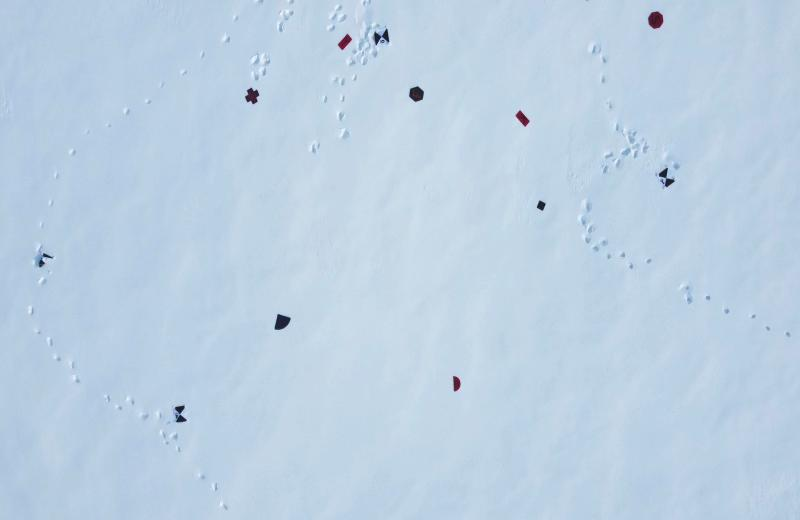Cross: (244, 86, 260, 104)
Hexagon: (408, 86, 426, 104)
Octagon: (647, 10, 664, 31)
Quarter Circle: (272, 313, 292, 333)
Rectangle: (336, 32, 354, 53), (515, 108, 530, 128)
Semi Circle: (451, 374, 463, 394)
Square: (536, 198, 547, 213)
